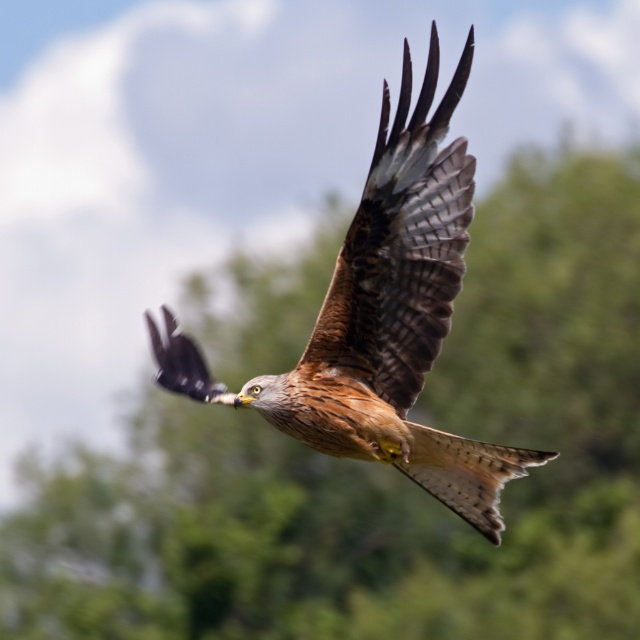Eagle: (206, 11, 565, 549)
